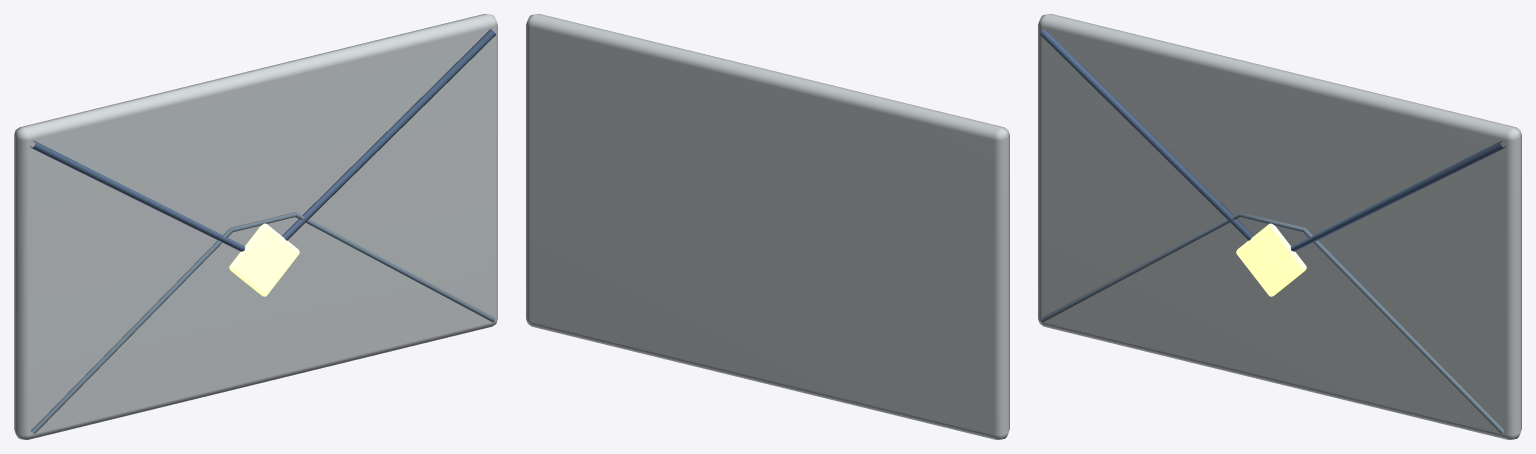
Rendered from envelope.glb.
3 views of the same model, side by side, from view 1: azimuth 30°, elevation 25°; view 2: azimuth 150°, elevation 25°; view 3: azimuth 330°, elevation 25° (orthographic).
Parts seen in each view (by area): view 1: Envelope body, Envelope folded edge, Envelope lower fold, Unbroken seal; view 2: Envelope body; view 3: Envelope body, Envelope folded edge, Envelope lower fold, Unbroken seal.
Boxes of the visible parts, x1,y1,x2,y2 form: Envelope body: (14,14,497,439); Envelope folded edge: (30,29,495,251); Envelope lower fold: (31,212,495,433); Unbroken seal: (229,223,299,296); Envelope body: (526,14,1009,439); Envelope body: (1038,14,1521,439); Envelope folded edge: (1040,29,1505,251); Envelope lower fold: (1040,212,1504,433); Unbroken seal: (1236,223,1306,296).
Size of the model in its own units: 1.5 by 0.93 by 0.085.
